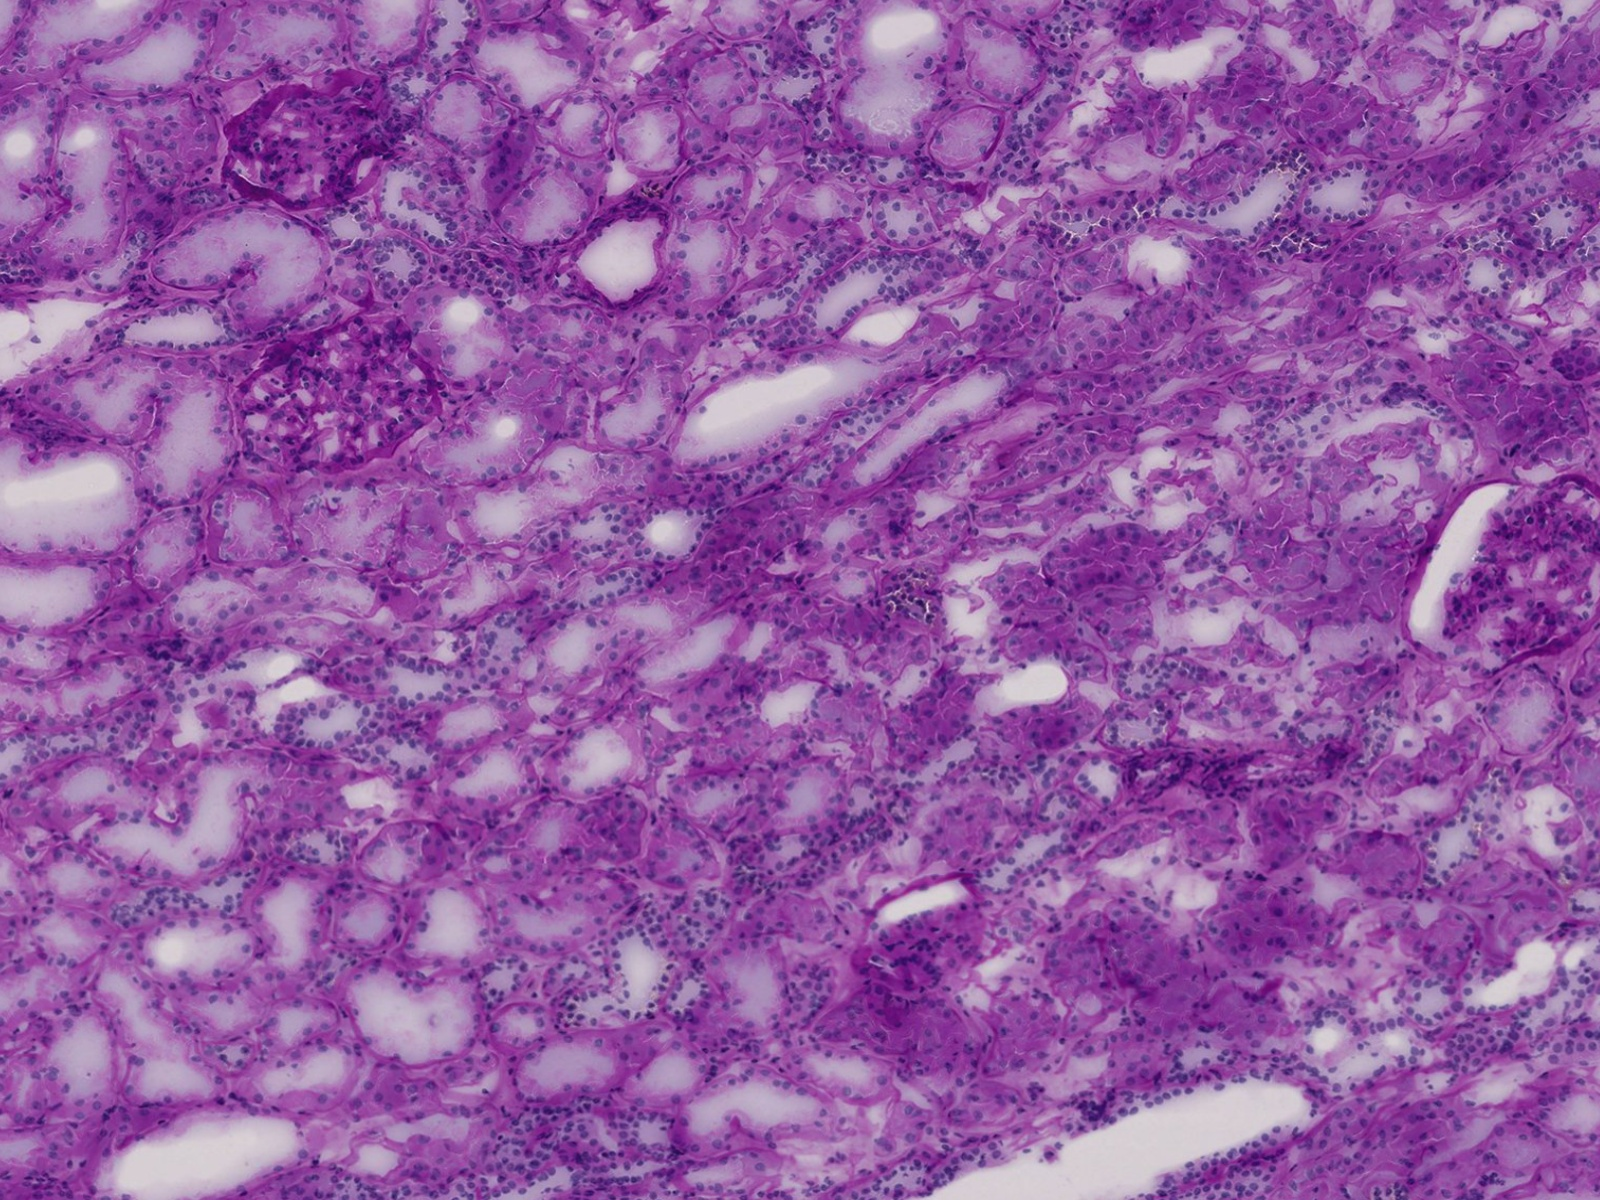Glomeruli: (224, 296, 457, 492), (1427, 466, 1600, 684), (218, 73, 407, 221)
